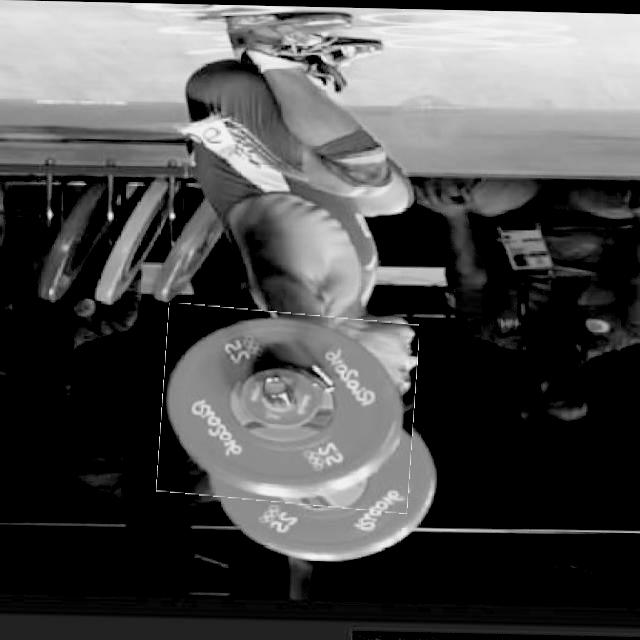barbell: (160, 307, 417, 509)
